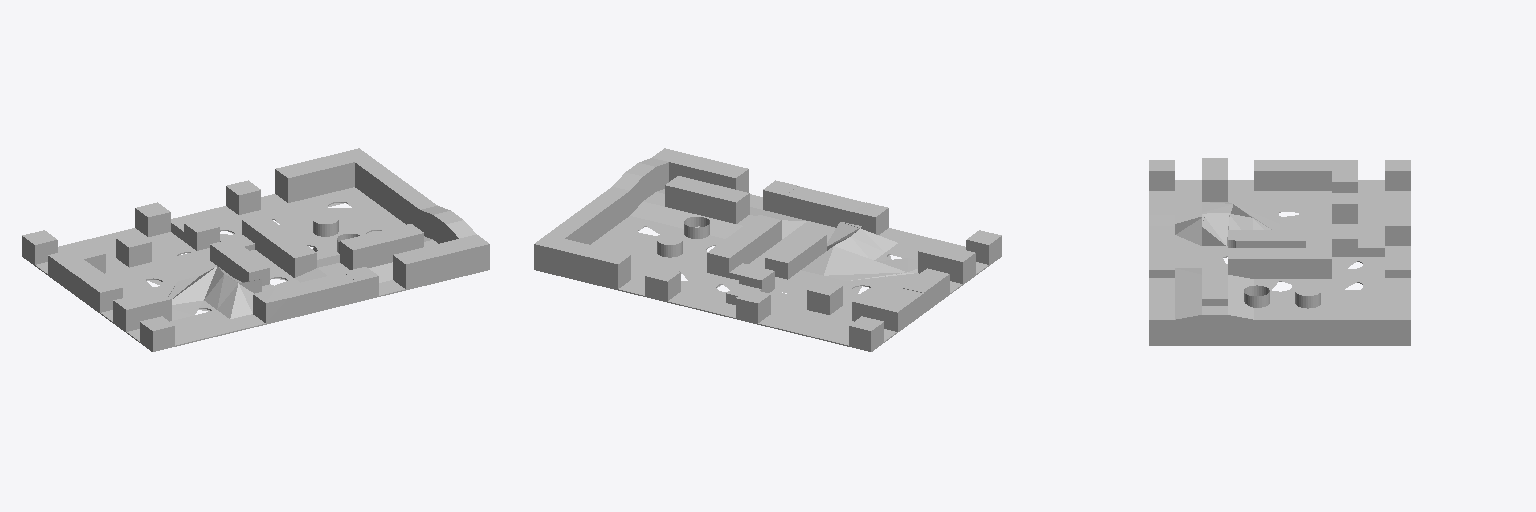
Rendered from Nivel5.obj.
3 views of the same model, side by side, from view 1: azimuth 30°, elevation 25°; view 2: azimuth 150°, elevation 25°; view 3: azimuth 270°, elevation 25° (orthographic).
Visible parts, largest first — view 1: Cube; view 2: Cube; view 3: Cube.
Part boxes in pixels (bbox=[...]): Cube: bbox=[22, 148, 489, 351]; Cube: bbox=[534, 148, 1001, 351]; Cube: bbox=[1149, 158, 1410, 345].
Bounding box in the file's own units: 29.81 × 3.96 × 20.